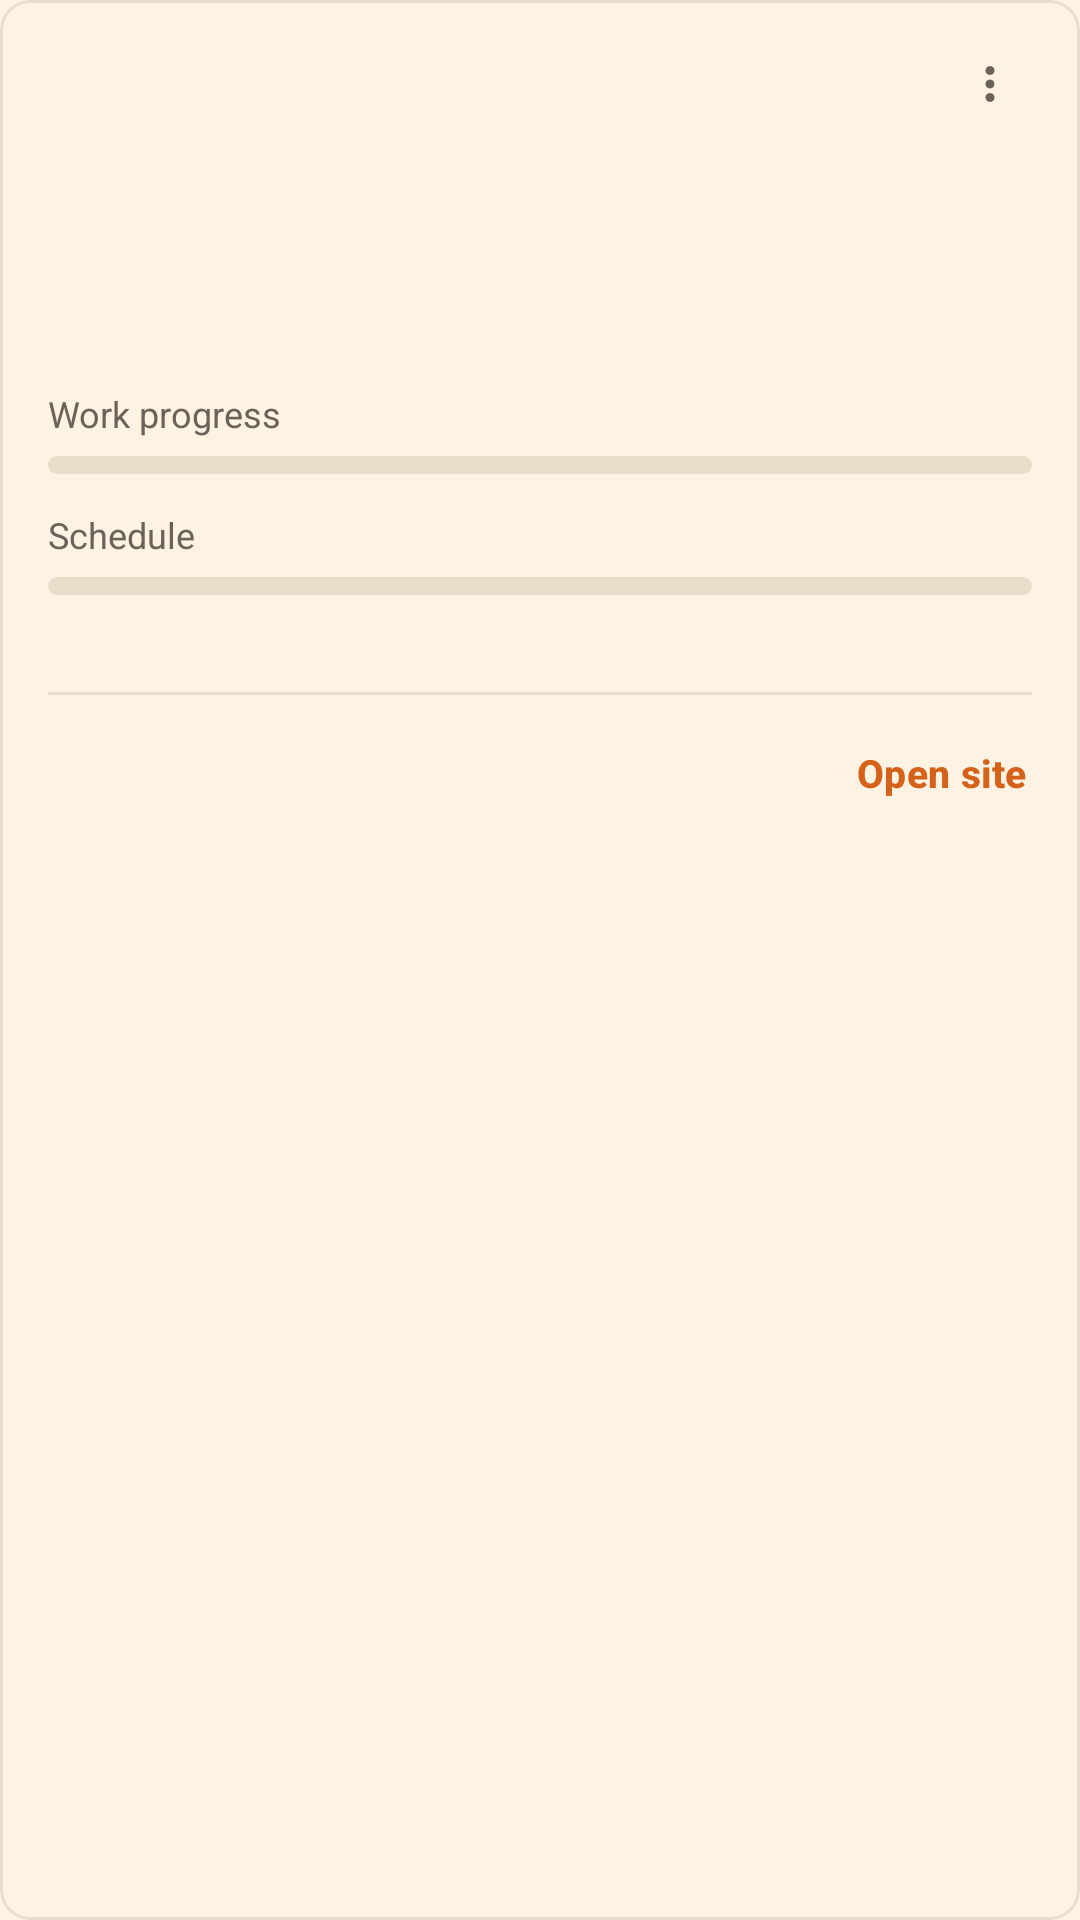

Icon click points for this 1080*1920 phone screenshot, format (x=x, y=y):
More actions: (x=990, y=84)
